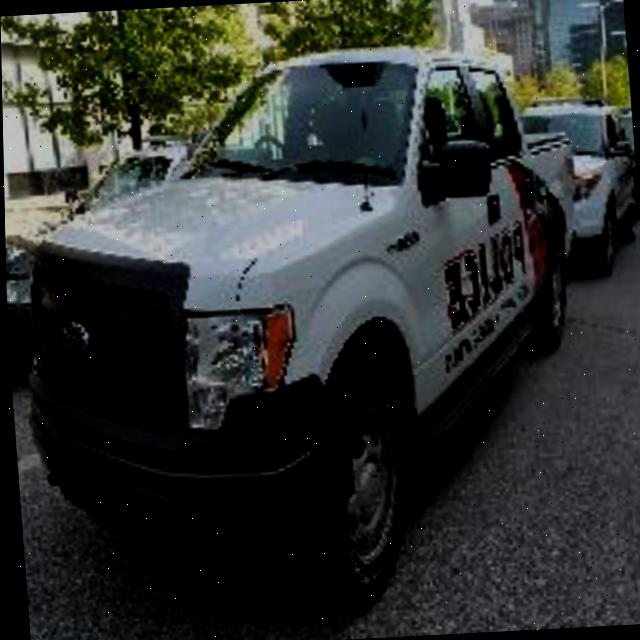emergency: (11, 41, 596, 602), (497, 95, 640, 273)
